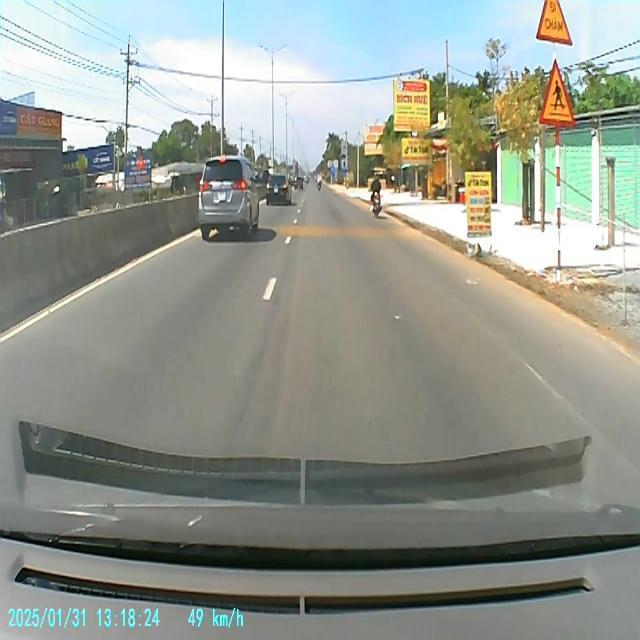224-duong-nguoi-di-bo-cat-ngang: (539, 58, 575, 128)
245-di-cham: (535, 0, 573, 48)
